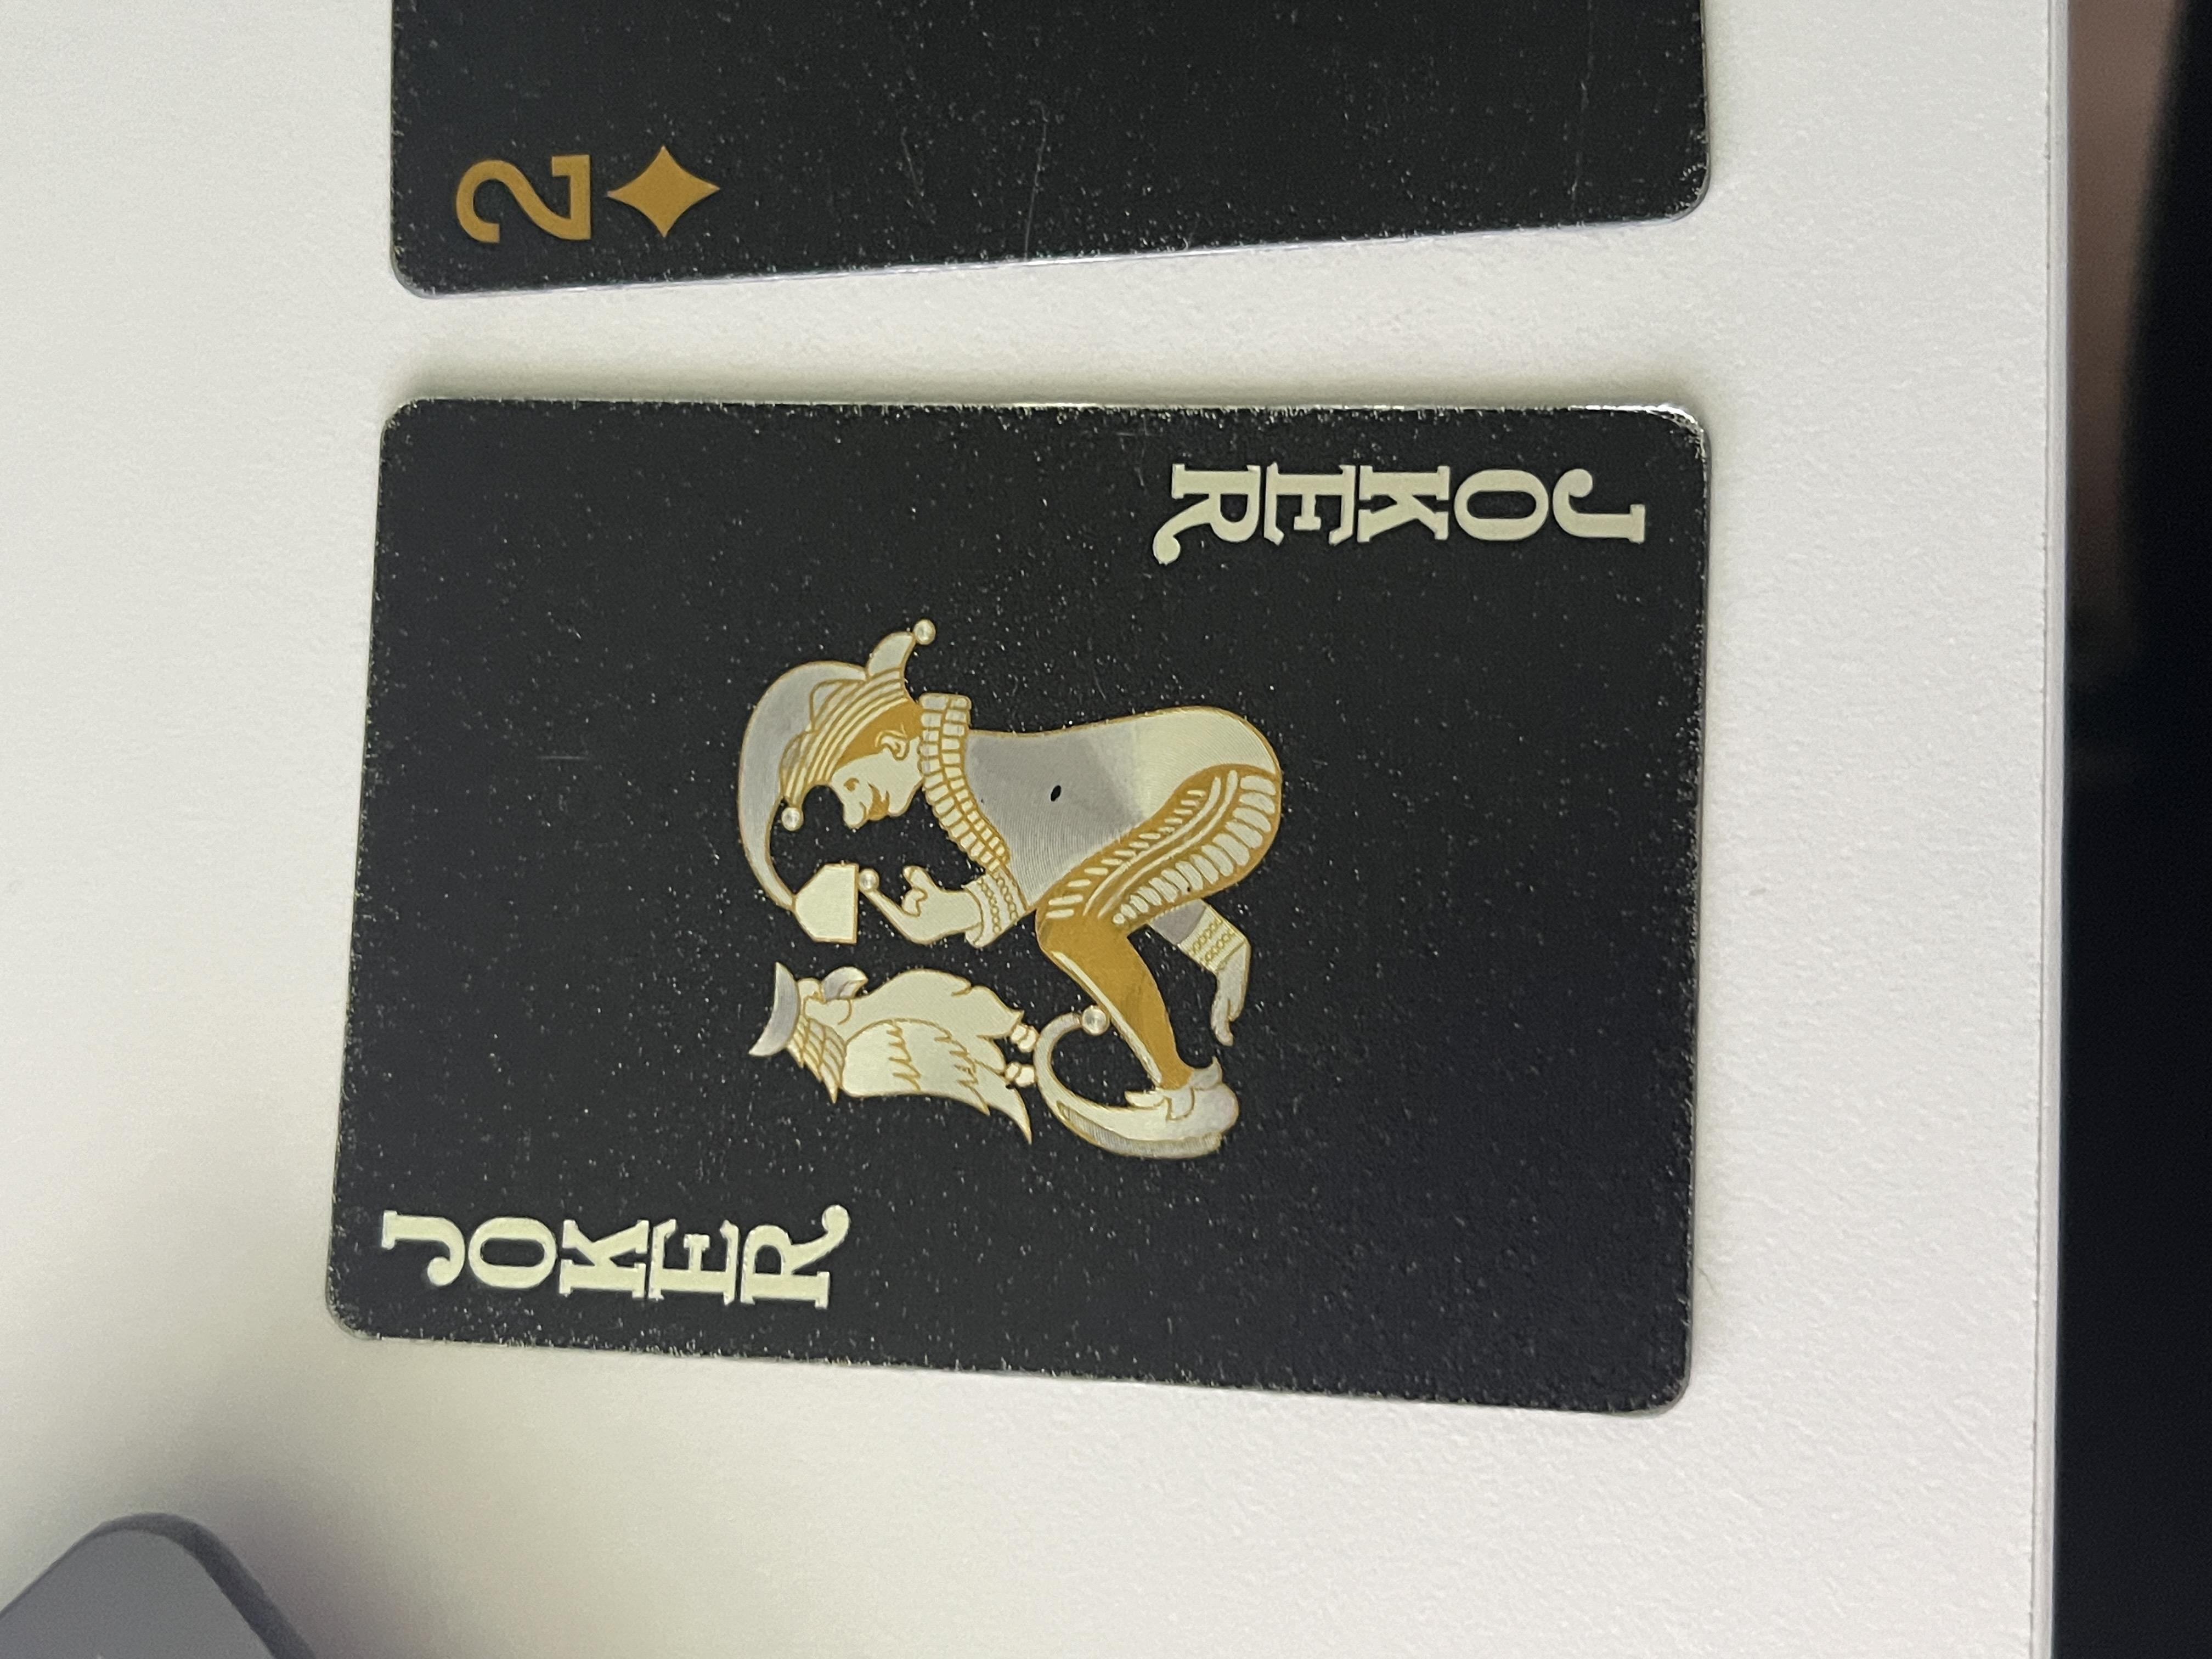2D: (1876, 326, 2029, 545)
BLACK JOKER: (1453, 857, 1642, 1269), (462, 272, 648, 652)
